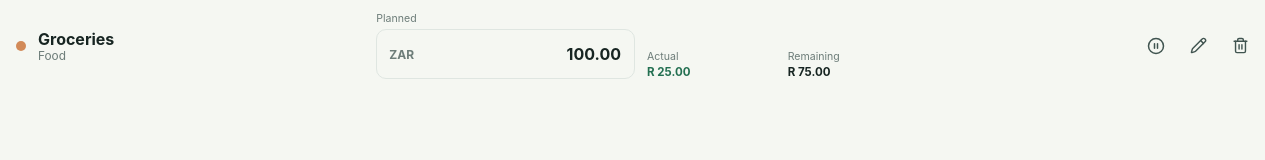
Test: BudgetRow › debounces amount changes and announces a successful save
Replace the text in the field named "Groceries planned amount" with "125.5" at (524, 54), box [414,30,634,78]
Wait 700 ms
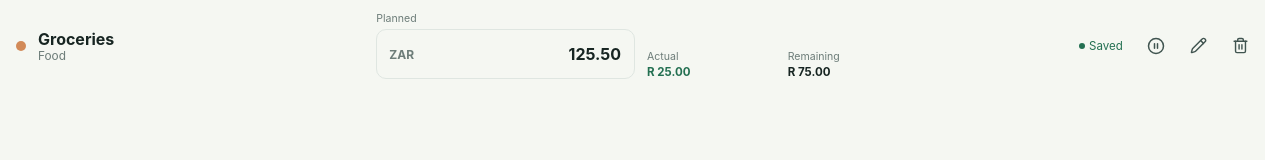
Now the text "Saved" is shown, box [1079,38,1134,52]
